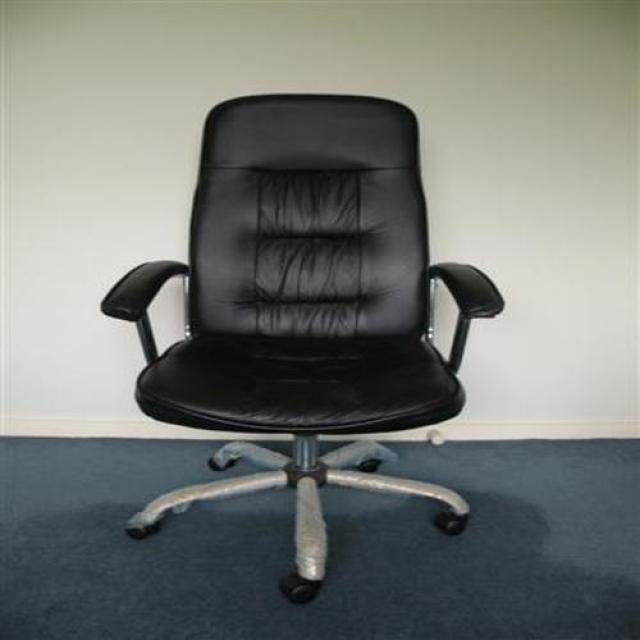swivelchair: (100, 93, 506, 608)
